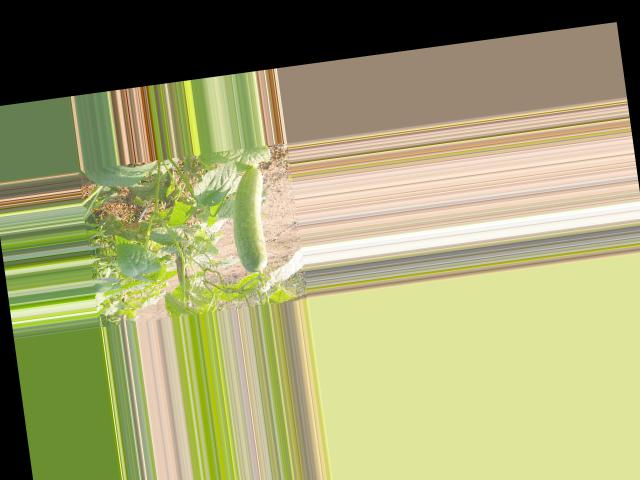cucumber: (225, 166, 275, 273)
